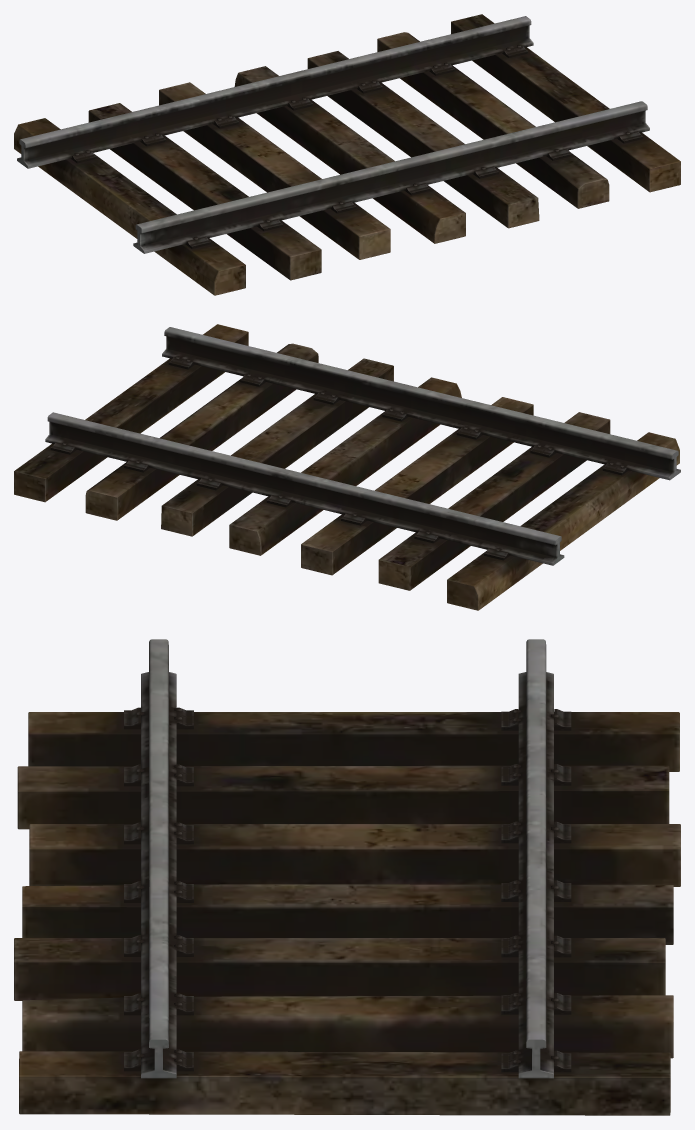
Rendered from railway.glb.
3 renders of one model, top to bottom at view 1: azimuth 30°, elevation 25°; view 2: azimuth 150°, elevation 25°; view 3: azimuth 270°, elevation 25°, orthographic. The views are drawn at different scales.
Parts seen in each view (by area): view 1: railroad_gav_railroad_gav_0; view 2: railroad_gav_railroad_gav_0; view 3: railroad_gav_railroad_gav_0.
Part boxes in pixels (x1,y1,x2,y2): railroad_gav_railroad_gav_0: [14, 14, 680, 295]; railroad_gav_railroad_gav_0: [14, 324, 680, 610]; railroad_gav_railroad_gav_0: [14, 639, 680, 1115].
Size of the model in its own units: 4 by 0.3716 by 2.82.
1 material, 1 textured.
